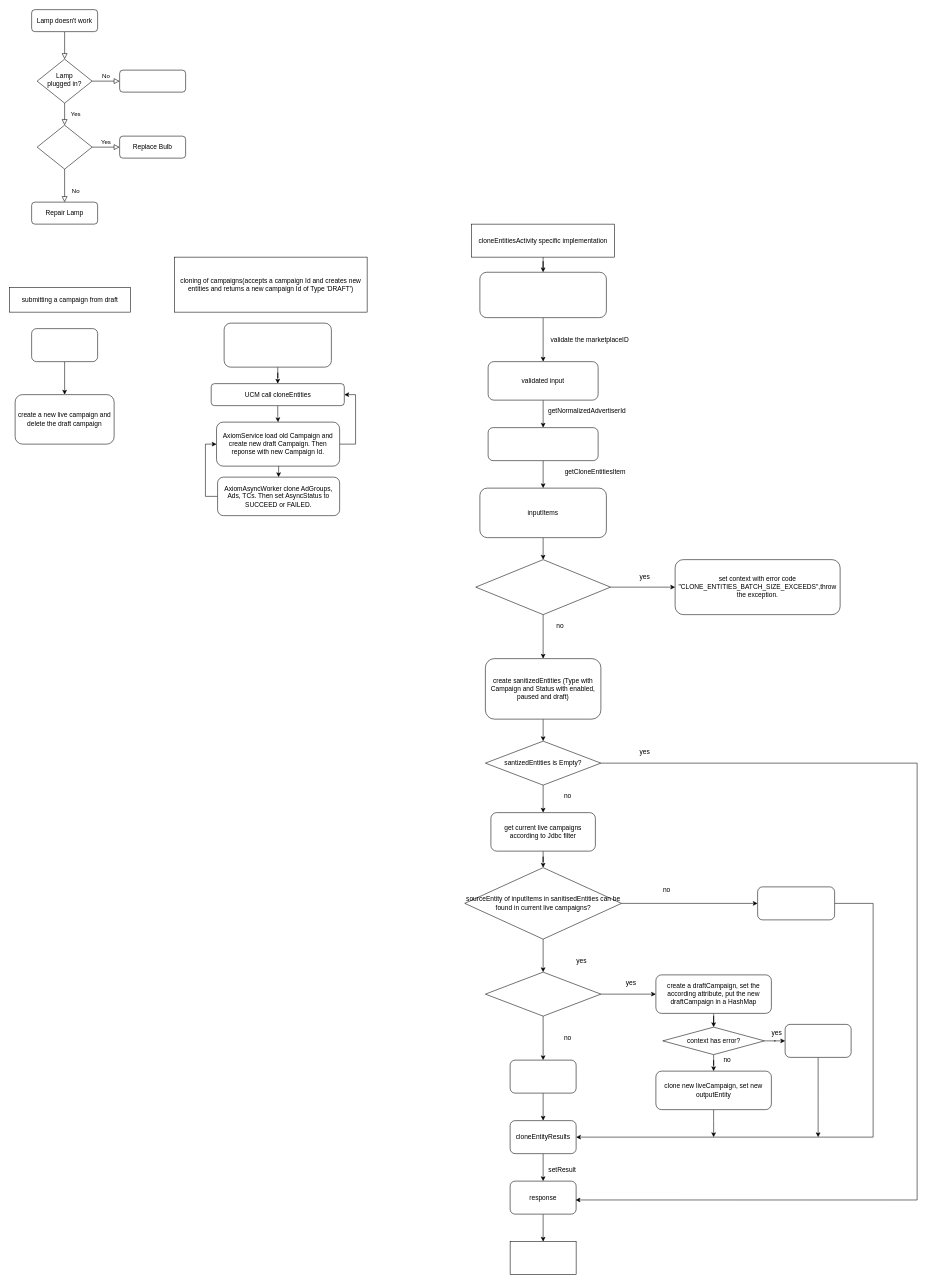
This 931x1284 diagram has some shape labels left out. Here are the shapes that lost their labels. From the top down, the centre of each, then its label:
At pixel 152 81: "Plug in lamp".
At pixel 64 147: "Bulb burned out?".
At pixel 542 295: "(CloneEntitiesRequest) input".
At pixel 64 345: "draft campaign".
At pixel 277 345: "client call cloneToDraftCampaign".
At pixel 543 444: "input with normalizedAdvertiserId".
At pixel 542 587: "inputItem.size() > UPDATE_BATCH_SIZE?".
At pixel 796 903: "build error code in cloneEntity results".
At pixel 543 994: "Is the status of inputItem Draft?".
At pixel 818 1040: "build errorDetail".
At pixel 543 1076: "clone live campaign".
At pixel 543 1258: "END".
